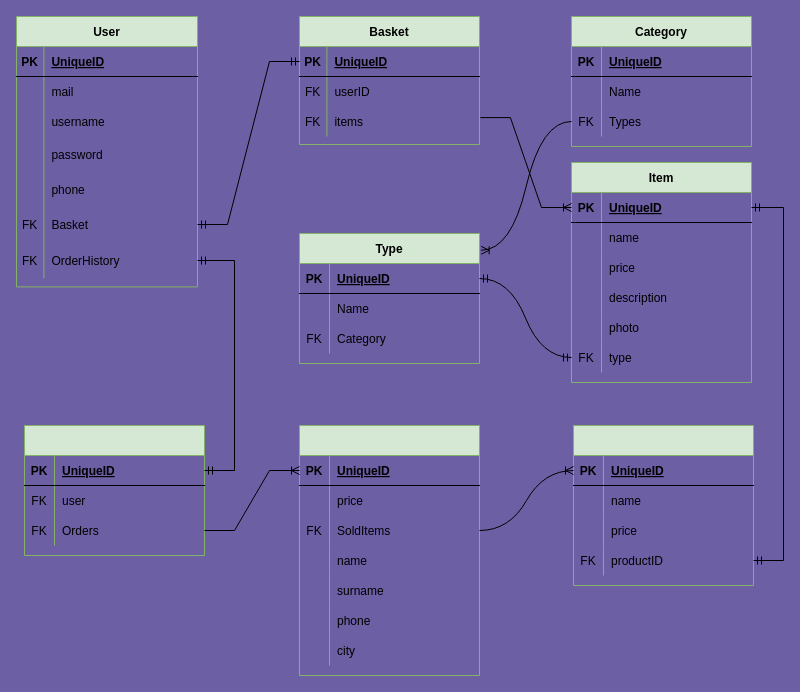
The diagram is 800 pixels wide and 692 high, and some of its shapes have lost their labels. Here are the shapes that lost their labels. From the top down, the box of each, then its label:
(24, 424, 204, 556): Order History
(572, 424, 754, 586): Sold Item
(298, 424, 480, 676): Order
